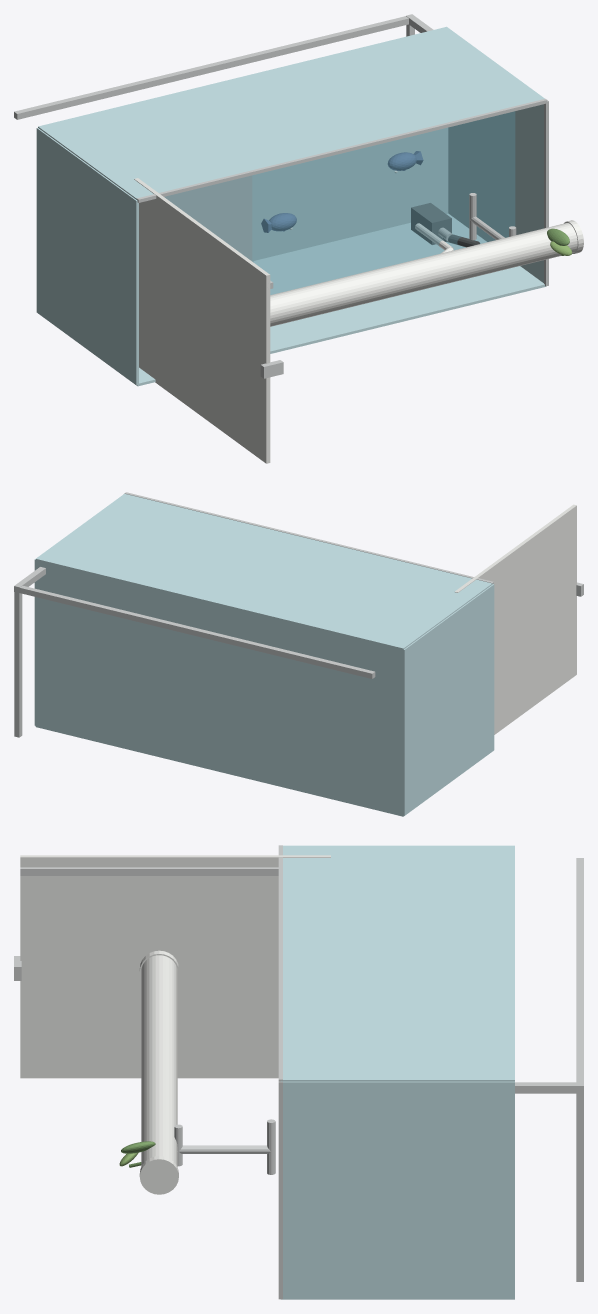
Rendered from aquasense.glb.
3 renders of one model, top to bottom at view 1: azimuth 30°, elevation 25°; view 2: azimuth 150°, elevation 25°; view 3: azimuth 270°, elevation 25°, orthographic. The views are drawn at different scales.
Parts seen in each view (by area): view 1: Back glass, Aquarium water, Vertical mounting panel, Left glass, Aquarium base glass, Front glass, Right glass, Hydroponic PVC channel, Filter top ledge, Stand long rail, Top rim long, Pump housing (+1 smaller); view 2: Aquarium base glass, Back glass, Left glass, Vertical mounting panel, Stand long rail, Stand cross rail, Top rim long, Front glass, Right glass; view 3: Back glass, Vertical mounting panel, Right glass, Hydroponic PVC channel, Panel edge rail, Stand long rail, Stand cross rail, Right end cap, Top rim long, Top rim short, Stand leg, Grow pipe bracket vertical.
Part boxes in pixels (left/top/right/bottom): Back glass: left=38, top=26, right=544, bottom=200; Aquarium water: left=165, top=111, right=514, bottom=294; Vertical mounting panel: left=134, top=178, right=270, bottom=463; Left glass: left=36, top=128, right=138, bottom=385; Aquarium base glass: left=253, top=127, right=448, bottom=260; Front glass: left=136, top=213, right=546, bottom=386; Right glass: left=448, top=104, right=543, bottom=282; Hydroponic PVC channel: left=270, top=223, right=577, bottom=326; Filter top ledge: left=164, top=175, right=252, bottom=260; Stand long rail: left=14, top=16, right=408, bottom=119; Top rim long: left=136, top=98, right=547, bottom=202; Pump housing: left=411, top=203, right=451, bottom=244; Aquarium base glass: left=35, top=560, right=403, bottom=815; Back glass: left=35, top=493, right=492, bottom=649; Left glass: left=402, top=584, right=494, bottom=815; Vertical mounting panel: left=454, top=504, right=576, bottom=734; Stand long rail: left=14, top=585, right=375, bottom=678; Stand cross rail: left=14, top=591, right=22, bottom=737; Top rim long: left=124, top=492, right=493, bottom=584; Front glass: left=35, top=726, right=404, bottom=816; Right glass: left=34, top=559, right=36, bottom=725; Back glass: left=281, top=845, right=514, bottom=1081; Vertical mounting panel: left=20, top=855, right=330, bottom=1078; Right glass: left=281, top=1081, right=514, bottom=1298; Hydroponic PVC channel: left=141, top=955, right=177, bottom=1166; Panel edge rail: left=20, top=867, right=278, bottom=875; Stand long rail: left=576, top=858, right=583, bottom=1092; Stand cross rail: left=576, top=1093, right=583, bottom=1281; Right end cap: left=139, top=1156, right=178, bottom=1194; Top rim long: left=278, top=845, right=282, bottom=1081; Top rim short: left=278, top=1081, right=282, bottom=1299; Stand leg: left=515, top=1082, right=583, bottom=1093; Grow pipe bracket vertical: left=177, top=1145, right=270, bottom=1153.
Bounding box in the file's own units: 5.84 × 2.55 × 5.96.
